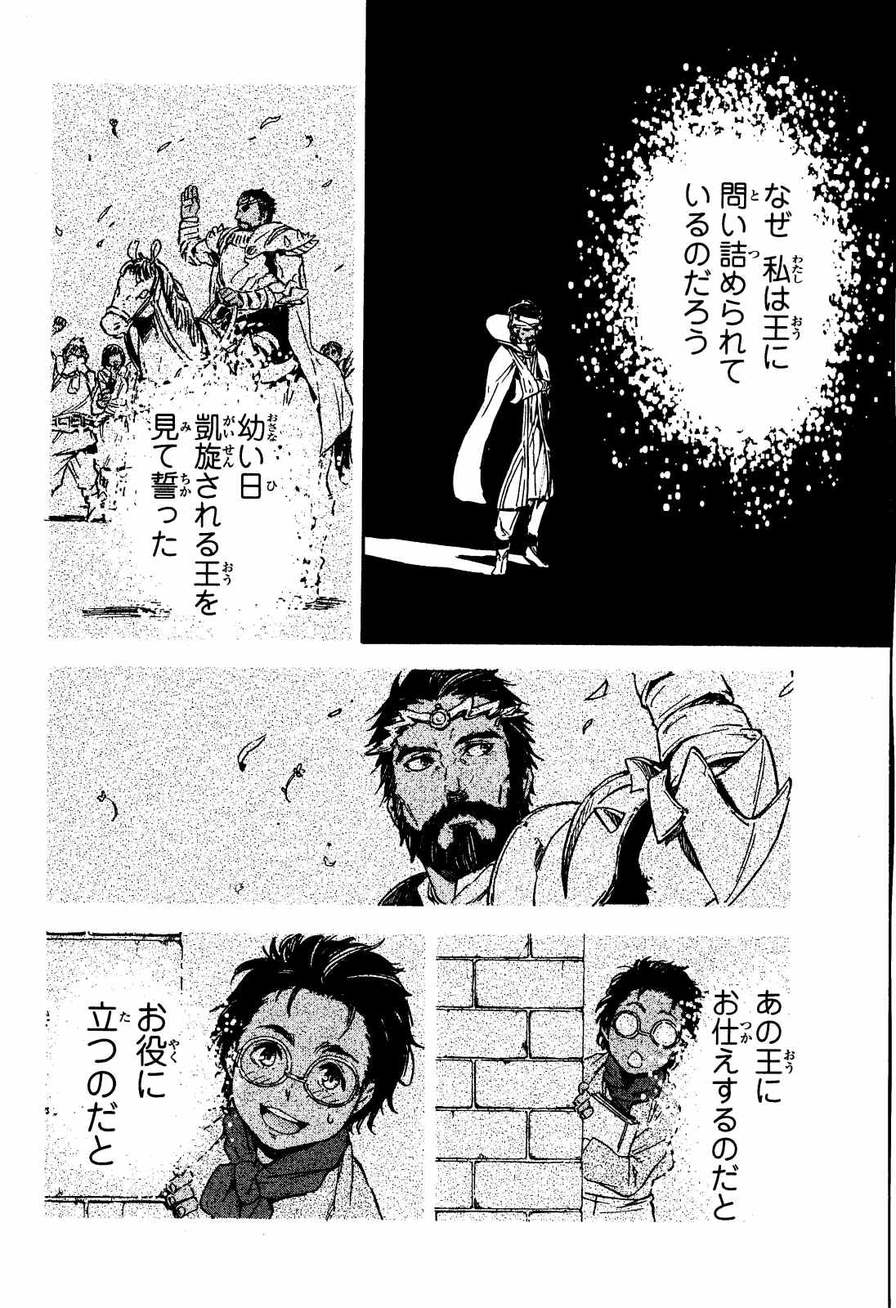bubbles: (674, 158, 823, 397), (146, 398, 297, 623), (79, 981, 192, 1177), (710, 984, 800, 1228)
